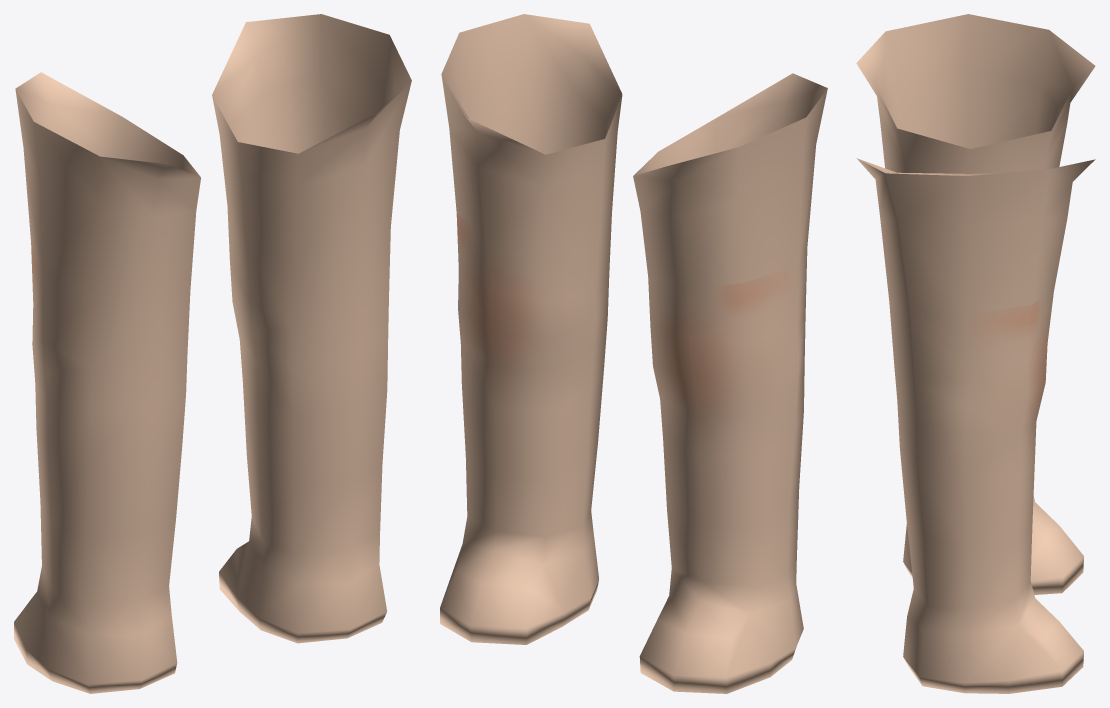
Rendered from Body_LegB_1.fbx.
3 views of the same model, side by side, from view 1: azimuth 30°, elevation 25°; view 2: azimuth 150°, elevation 25°; view 3: azimuth 270°, elevation 25° (orthographic). The views are drawn at different scales.
Visible parts, largest first — view 1: Body_LegB_1; view 2: Body_LegB_1; view 3: Body_LegB_1.
Part boxes in pixels (<box>): Body_LegB_1: <box>14,14,411,693</box>; Body_LegB_1: <box>440,14,827,693</box>; Body_LegB_1: <box>856,14,1095,693</box>.
Size of the model in its own units: 34.33 by 51.81 by 21.43.
